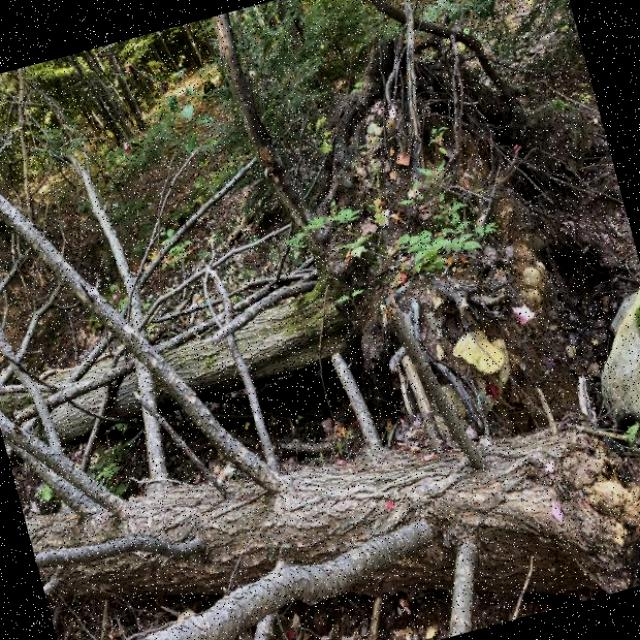fallen_object: (13, 319, 640, 640), (0, 204, 417, 456)
